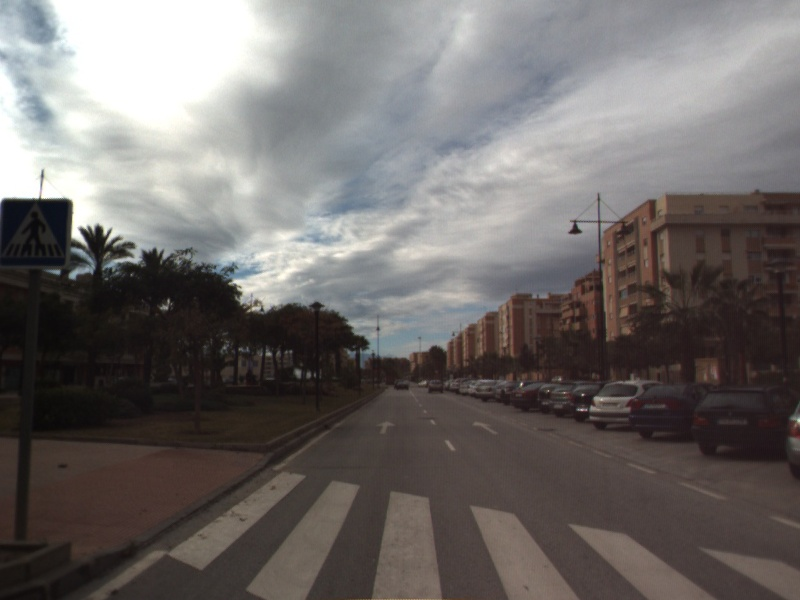STRAIGHT: (470, 419, 500, 436), (374, 418, 398, 436)
